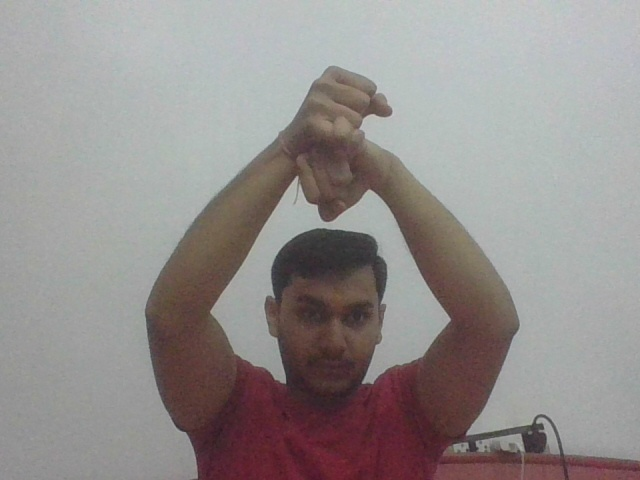S: (291, 63, 396, 223)
